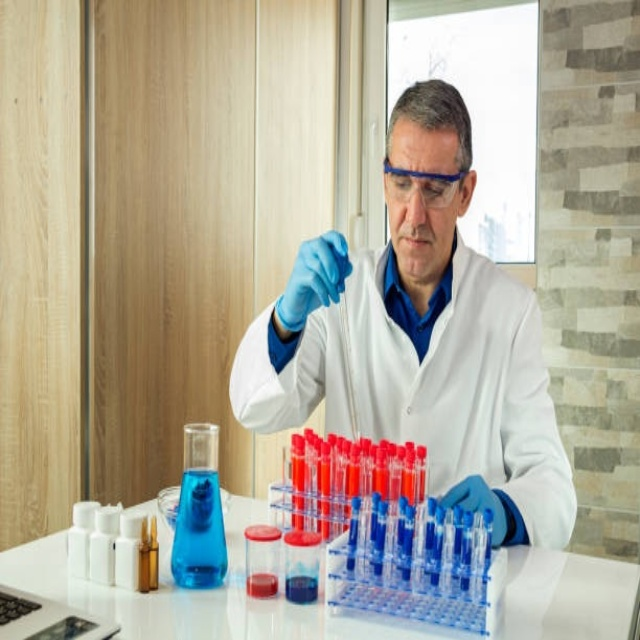Gafas: (384, 161, 465, 209)
Guantes: (274, 230, 353, 332), (439, 474, 514, 548)
Sin_mascara: (391, 226, 439, 270)
